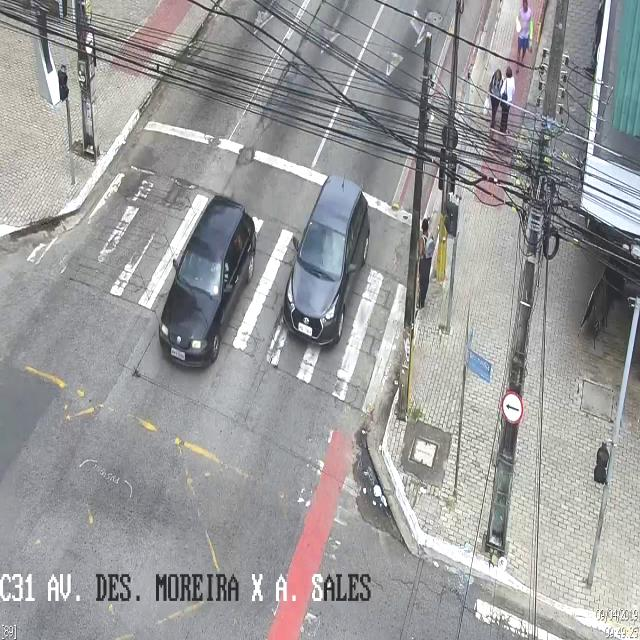Car: (162, 200, 257, 366), (282, 172, 368, 352)
